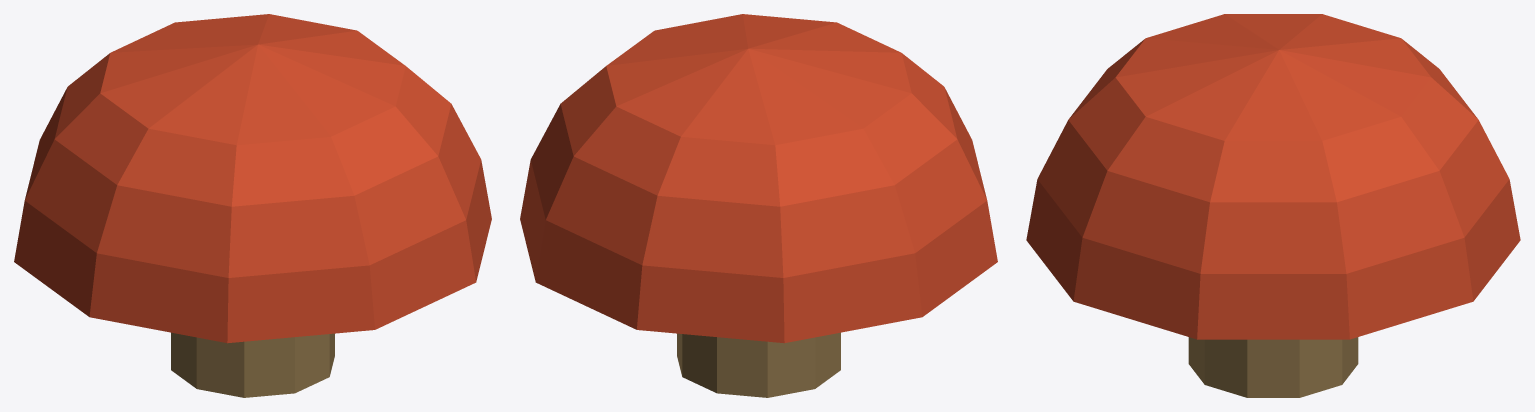
File: Mushroom_1.fbx
3 views of the same model, side by side, from view 1: azimuth 30°, elevation 25°; view 2: azimuth 150°, elevation 25°; view 3: azimuth 270°, elevation 25° (orthographic).
Parts seen in each view (by area): view 1: Mushroom_mesh; view 2: Mushroom_mesh; view 3: Mushroom_mesh.
Part boxes in pixels (x1,y1,x2,y2): Mushroom_mesh: (14, 14, 491, 397); Mushroom_mesh: (520, 14, 997, 397); Mushroom_mesh: (1026, 14, 1520, 397).
Bounding box in the file's own units: 20.59 × 15.36 × 21.65.
